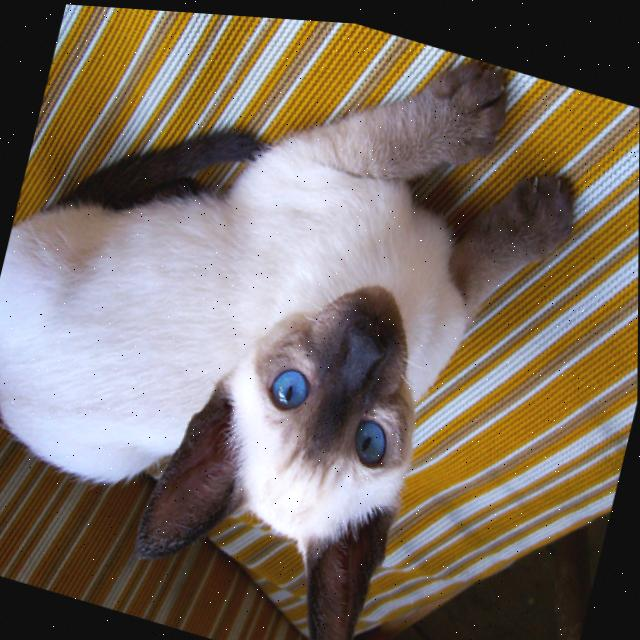Siamese: (0, 0, 605, 640)
